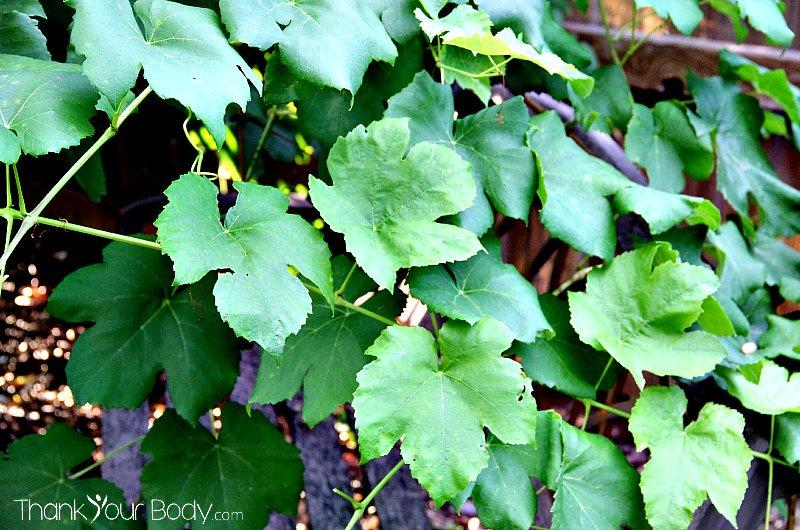grape leaf black rot: (156, 165, 338, 365), (49, 240, 234, 420), (305, 116, 484, 298), (65, 1, 256, 157), (557, 243, 724, 385), (619, 378, 764, 529), (409, 228, 553, 345)
